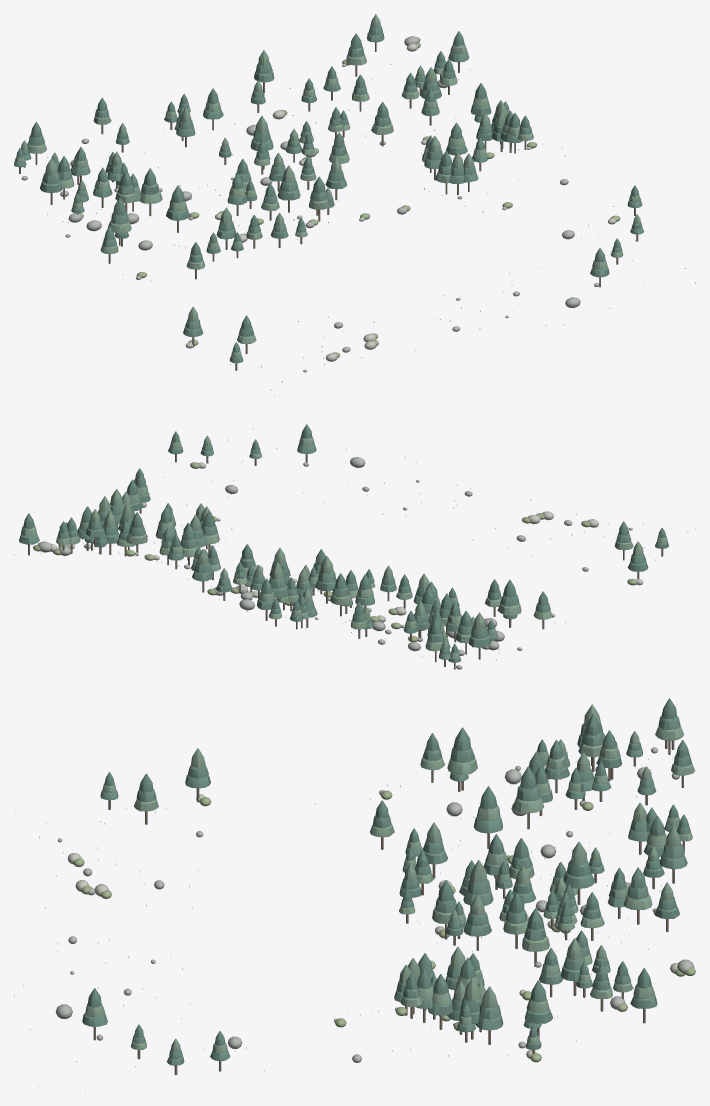
File: LandscapeDetails.fbx
The picture shows the model from 3 angles, top to bottom: view 1: azimuth 30°, elevation 25°; view 2: azimuth 150°, elevation 25°; view 3: azimuth 270°, elevation 25°; orthographic projection. The views are drawn at different scales.
Parts seen in each view (by area): view 1: LandscapeDetails; view 2: LandscapeDetails; view 3: LandscapeDetails.
Part boxes in pixels (left/top/right/bottom): LandscapeDetails: left=14, top=14, right=695, bottom=395; LandscapeDetails: left=14, top=424, right=695, bottom=669; LandscapeDetails: left=14, top=698, right=695, bottom=1091.
Size of the model in its own units: 9615 by 9251 by 2336.
